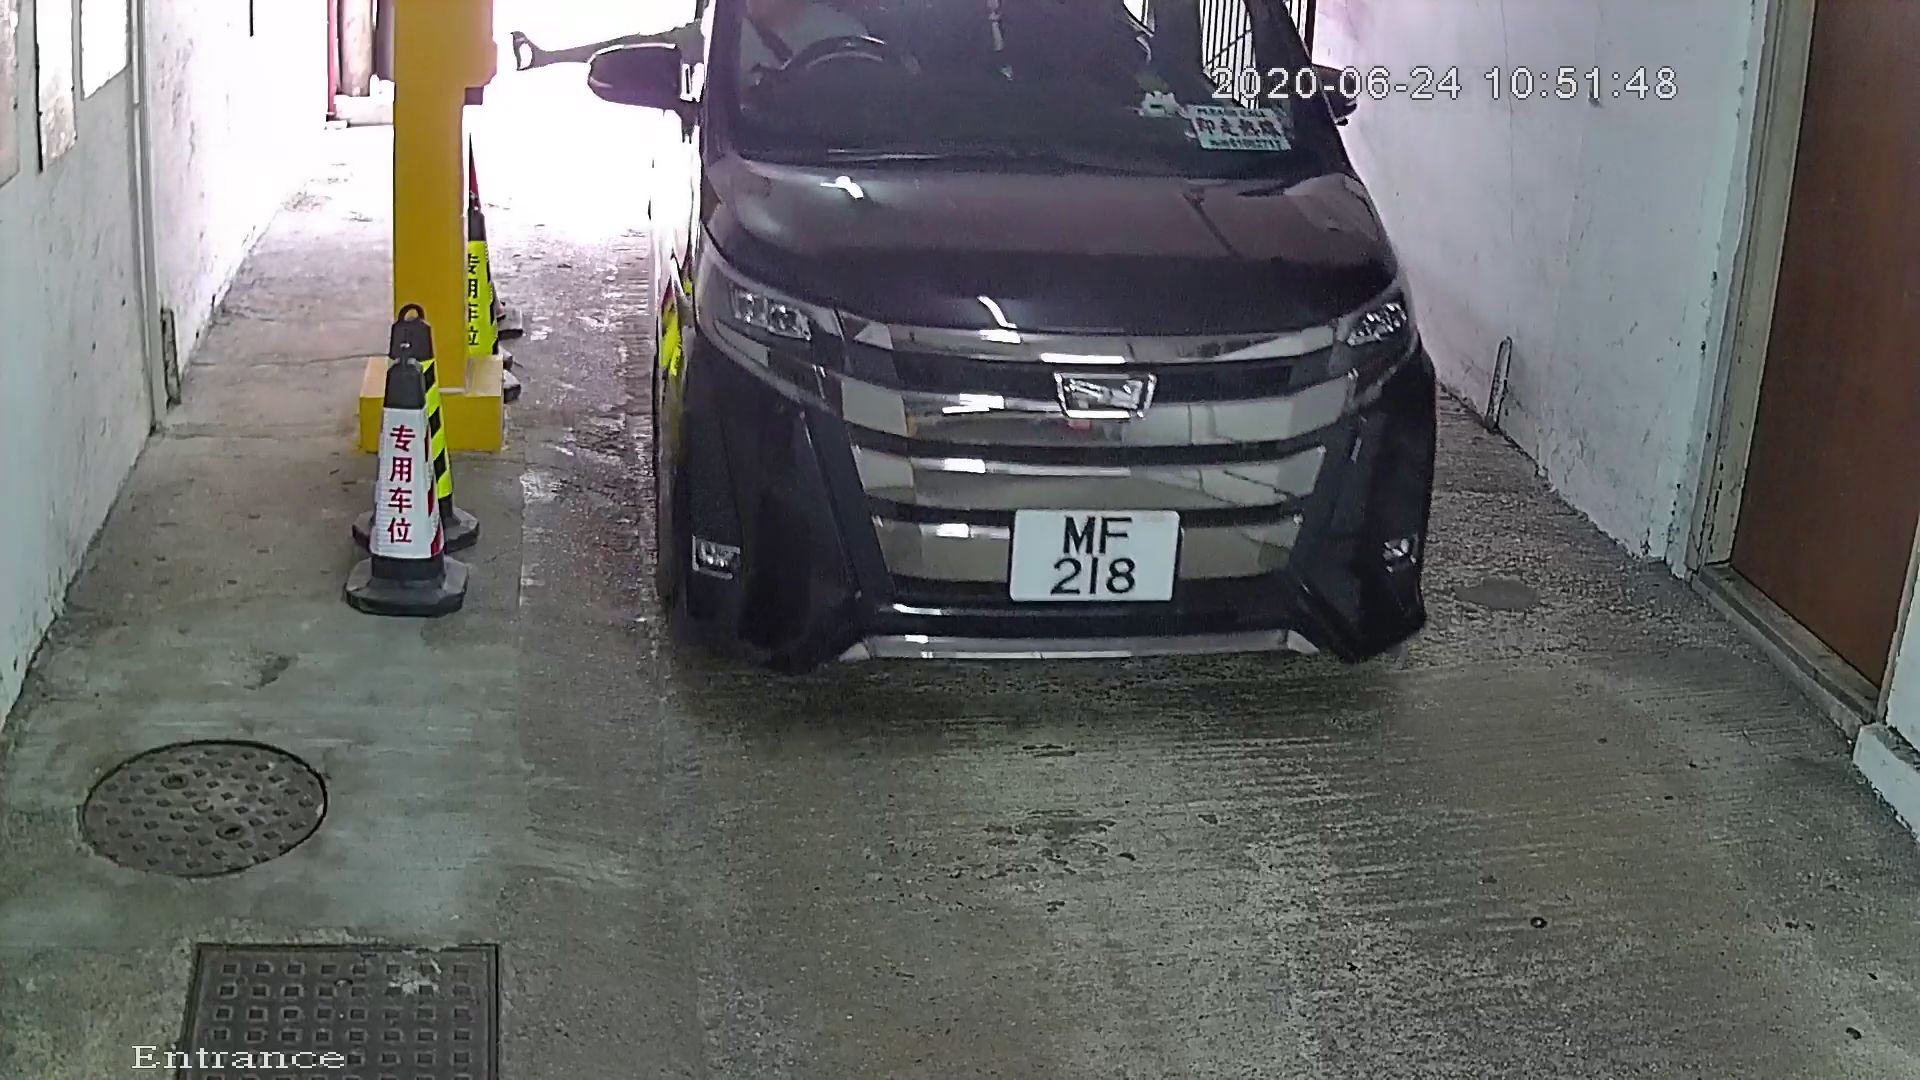Car: (598, 1, 1449, 776)
License Plate: (1004, 505, 1185, 628)
